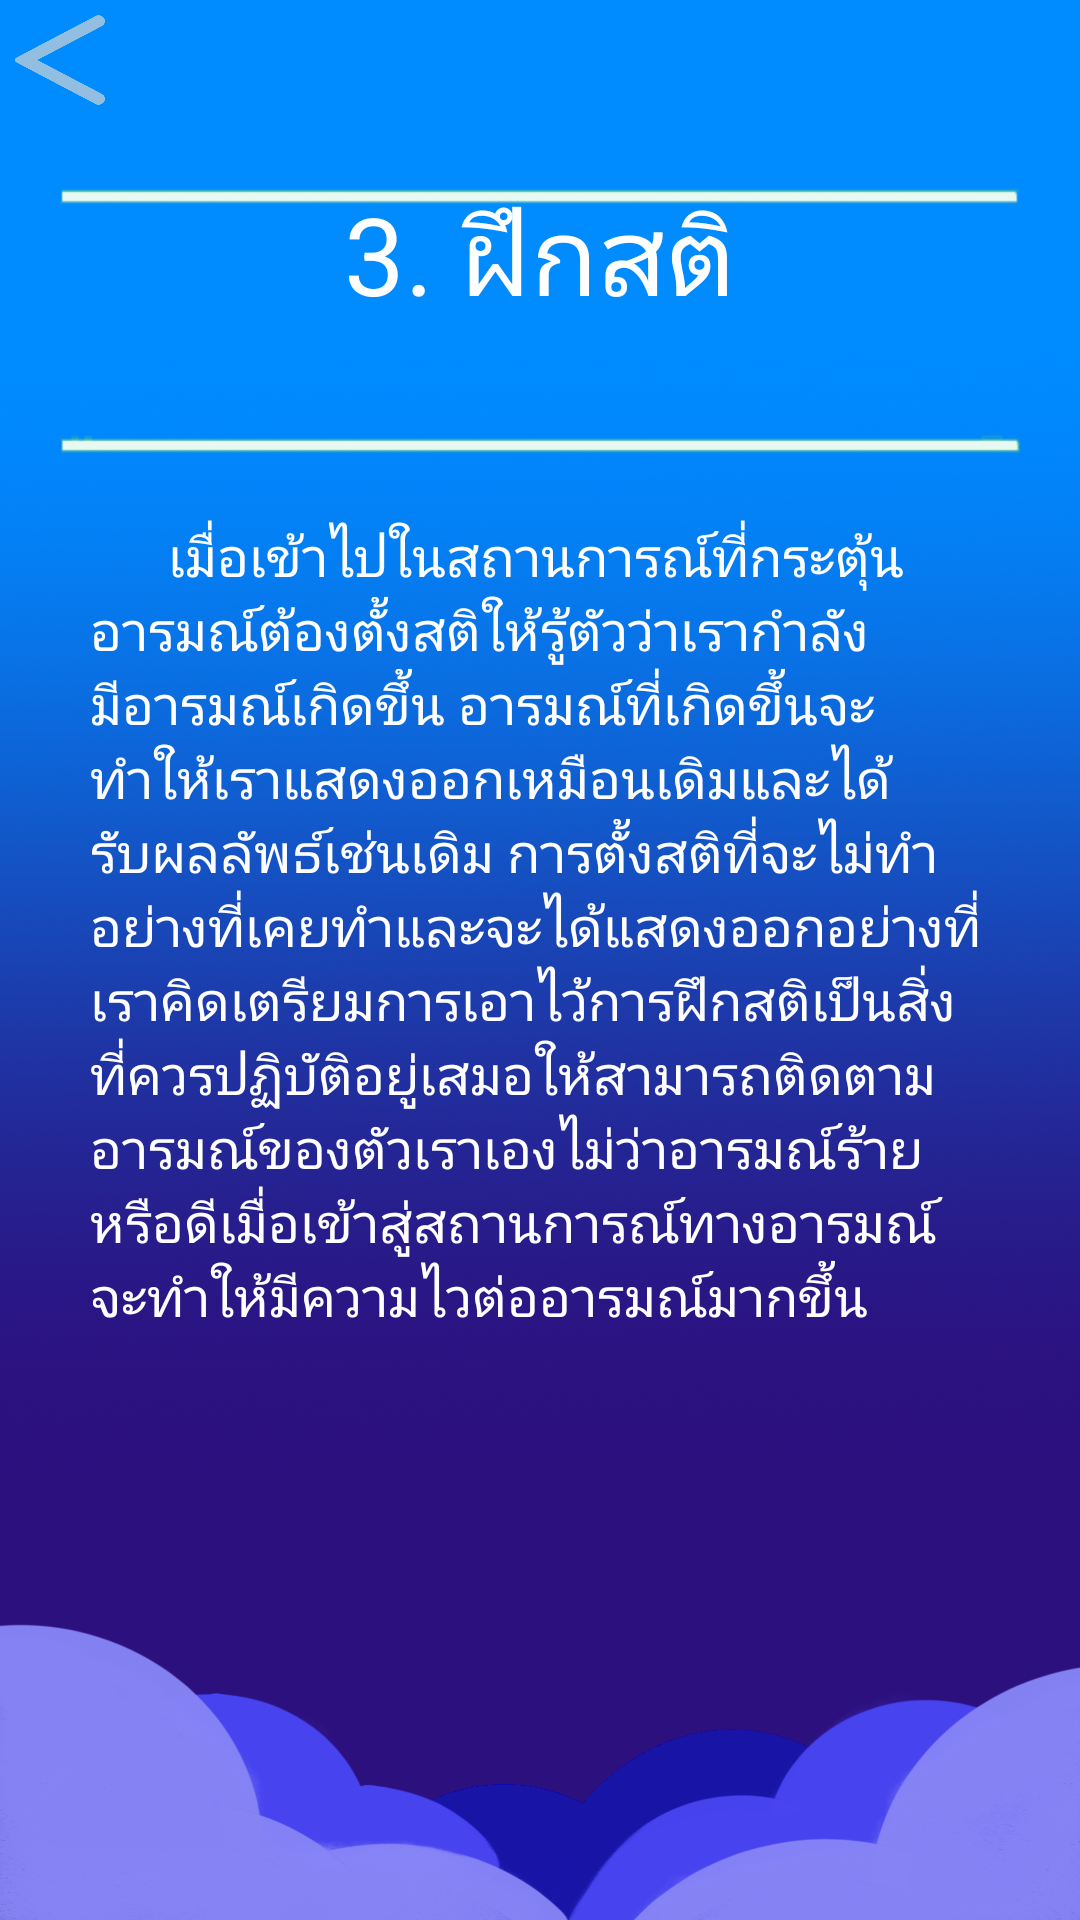

Where icons sit on this 1080px×1920px app screen, as {"x1": x1, "y1": y1, "x2": x2, "y2": y2}:
backbut: {"x1": 15, "y1": 15, "x2": 105, "y2": 105}
